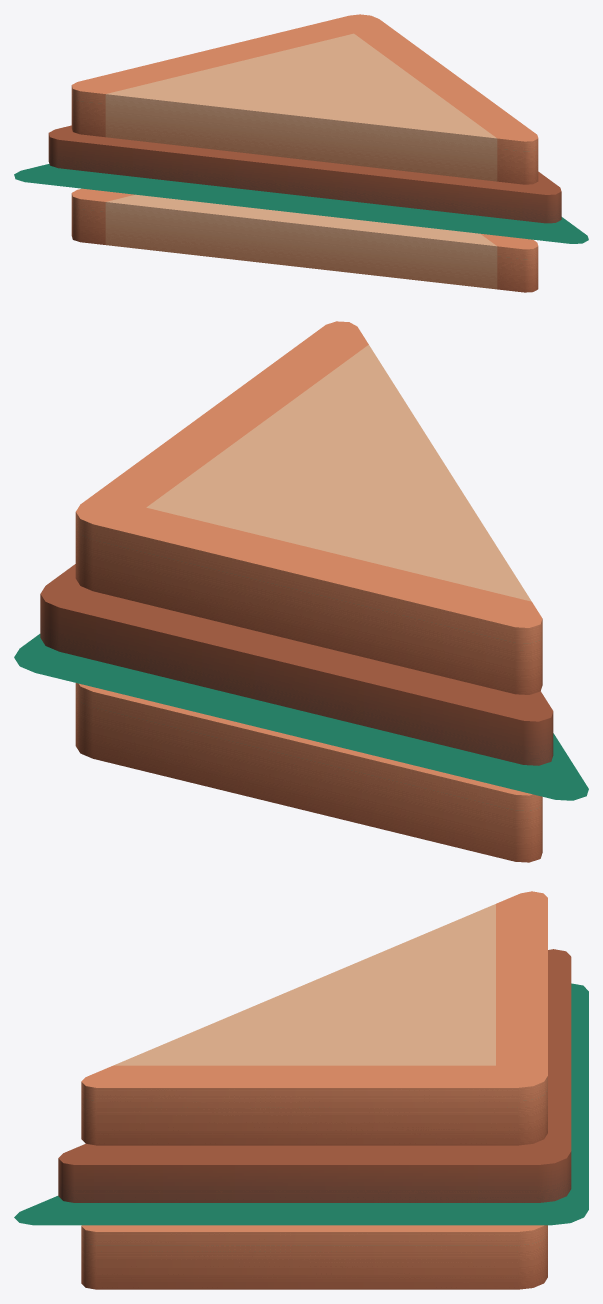
The model's file is sandwich.glb.
3 renders of one model, top to bottom at view 1: azimuth 30°, elevation 25°; view 2: azimuth 150°, elevation 25°; view 3: azimuth 270°, elevation 25°, orthographic. The views are drawn at different scales.
Visible parts, largest first — view 1: bun (×2), meat, lettuce; view 2: bun (×2), meat, lettuce; view 3: bun (×2), meat, lettuce.
Boxes of the visible parts, x1=… form: bun (×2): x1=71, y1=14, x2=538, y2=292; meat: x1=48, y1=125, x2=561, y2=223; lettuce: x1=14, y1=164, x2=588, y2=243; bun (×2): x1=75, y1=321, x2=542, y2=862; meat: x1=40, y1=564, x2=553, y2=765; lettuce: x1=14, y1=634, x2=588, y2=800; bun (×2): x1=81, y1=891, x2=547, y2=1289; meat: x1=58, y1=949, x2=571, y2=1202; lettuce: x1=14, y1=983, x2=588, y2=1225.
Bounding box in the file's own units: 0.4323 × 0.168 × 0.4339.
Materials: 1 (1 with a texture image).
